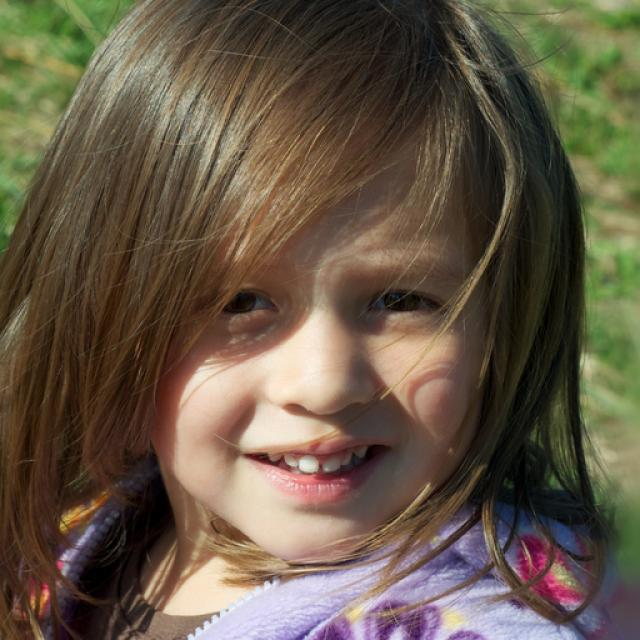happy: (148, 108, 490, 558)
